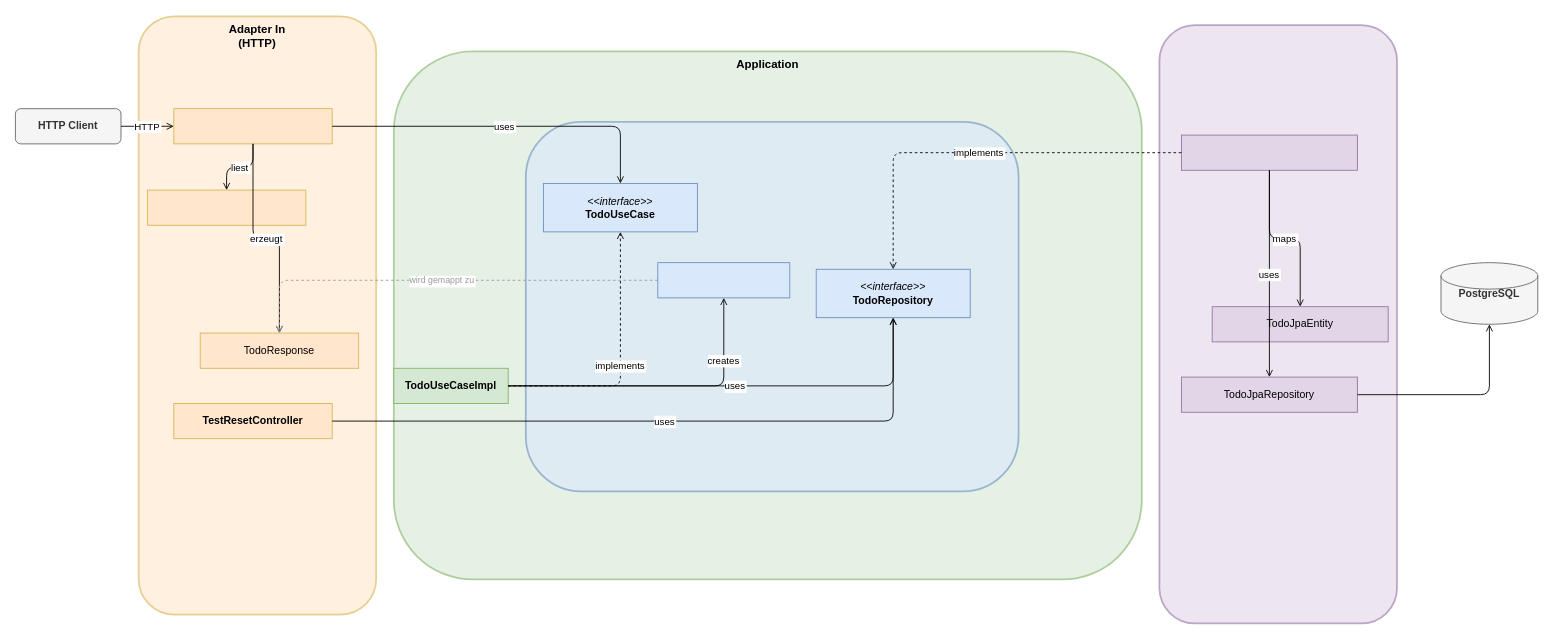
Some shapes in this 1553 by 639 pixel diagram are drawn without their labels. The box of each missing label's shape, as (x1, y1, x2, y2) in pixels:
Adapter Out (Persistence): (1158, 24, 1397, 624)
CreateTodoRequest: (147, 189, 306, 225)
Domain: (524, 121, 1019, 492)
Todo: (657, 262, 790, 298)
TodoController: (173, 108, 332, 144)
TodoPersistenceAdapter: (1181, 134, 1357, 170)
